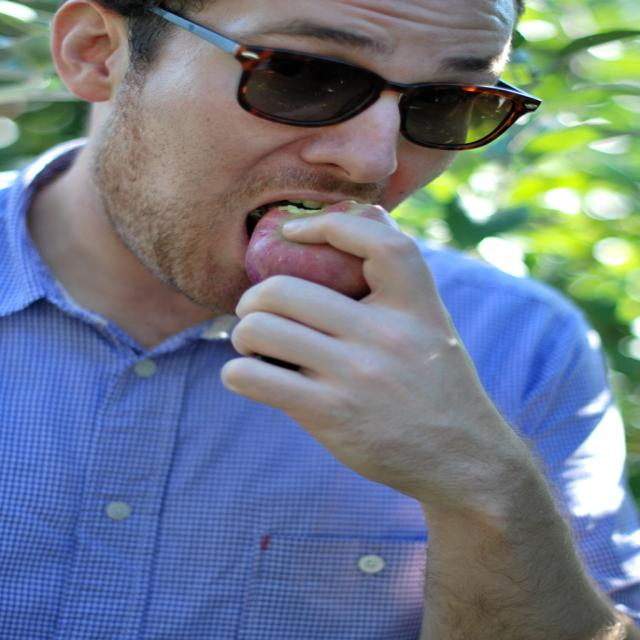Healty Apple: (243, 196, 398, 300)
